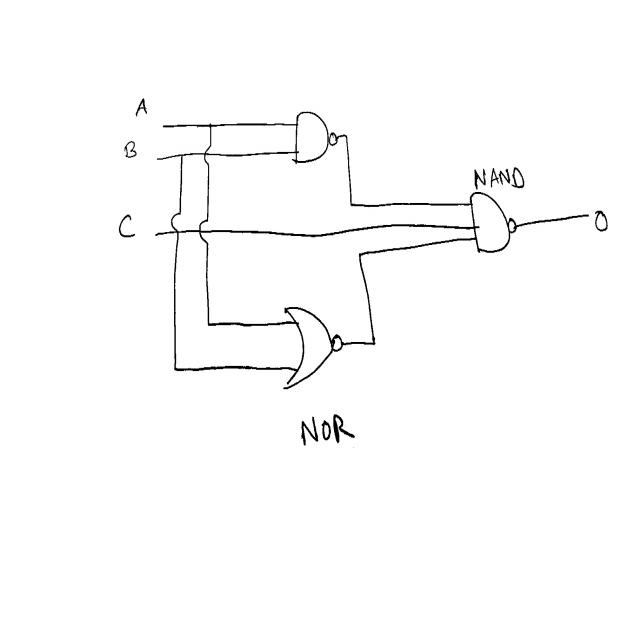crossover: (170, 209, 184, 240), (199, 215, 210, 250), (204, 143, 213, 167)
junction: (368, 331, 379, 353), (356, 248, 366, 264), (347, 197, 355, 211), (172, 361, 180, 374), (205, 317, 212, 331), (179, 151, 186, 161), (342, 131, 349, 141), (208, 120, 213, 131)
terminal: (583, 209, 592, 222), (160, 122, 167, 132), (155, 155, 161, 164), (154, 231, 159, 239)
text: (301, 410, 355, 450), (473, 164, 526, 192), (118, 213, 136, 239), (593, 208, 608, 233), (122, 138, 138, 160), (134, 96, 148, 118)
